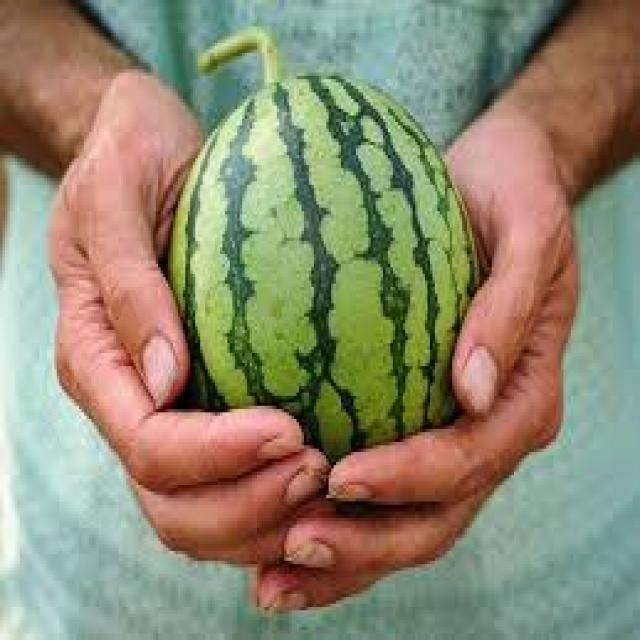watermelon: (170, 76, 477, 468)
